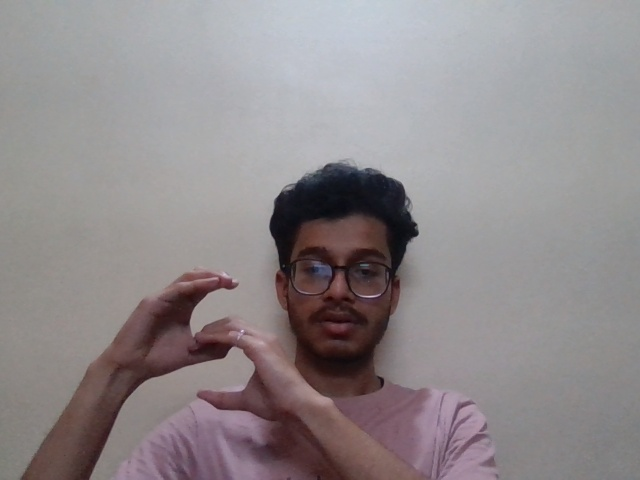S: (96, 257, 315, 426)
